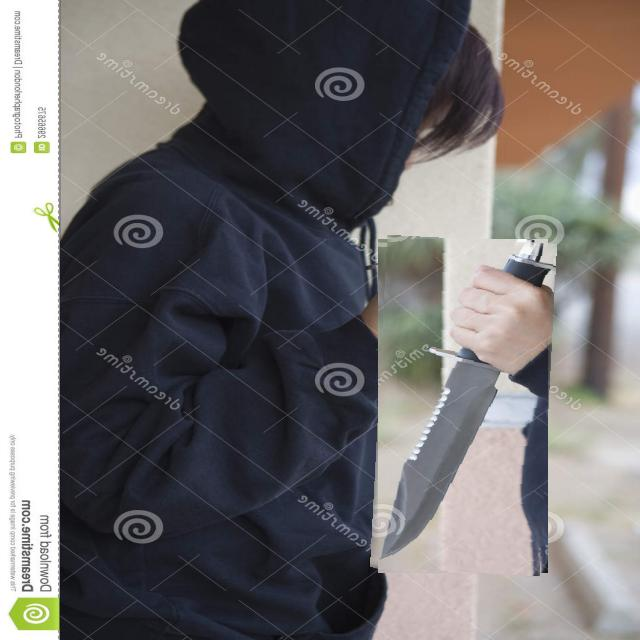knife: (374, 238, 552, 576)
